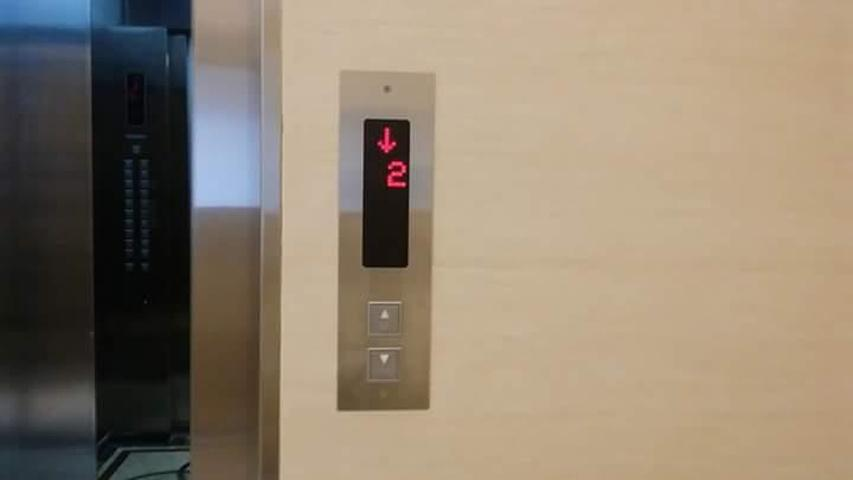down: (366, 345, 401, 381)
led: (358, 114, 409, 269), (124, 73, 145, 124)
up: (366, 300, 401, 335)
